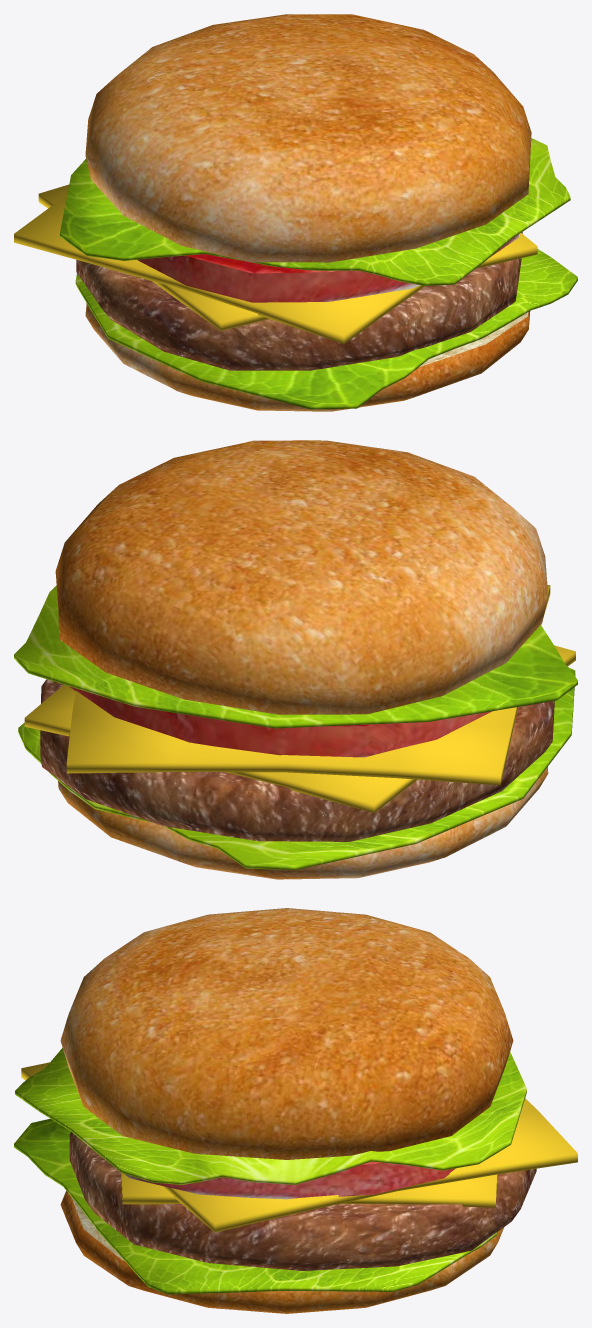
Rendered from burger_good.fbx.
The picture shows the model from 3 angles, top to bottom: view 1: azimuth 30°, elevation 25°; view 2: azimuth 150°, elevation 25°; view 3: azimuth 270°, elevation 25°; orthographic projection. The views are drawn at different scales.
Parts seen in each view (by area): view 1: burger_good_LOD0; view 2: burger_good_LOD0; view 3: burger_good_LOD0.
Part boxes in pixels (x1,y1,x2,y2): burger_good_LOD0: (14,14,577,411); burger_good_LOD0: (14,440,577,879); burger_good_LOD0: (14,908,577,1313).
Size of what is drawn, in the model's own units: 67.43 by 39.69 by 70.41.
